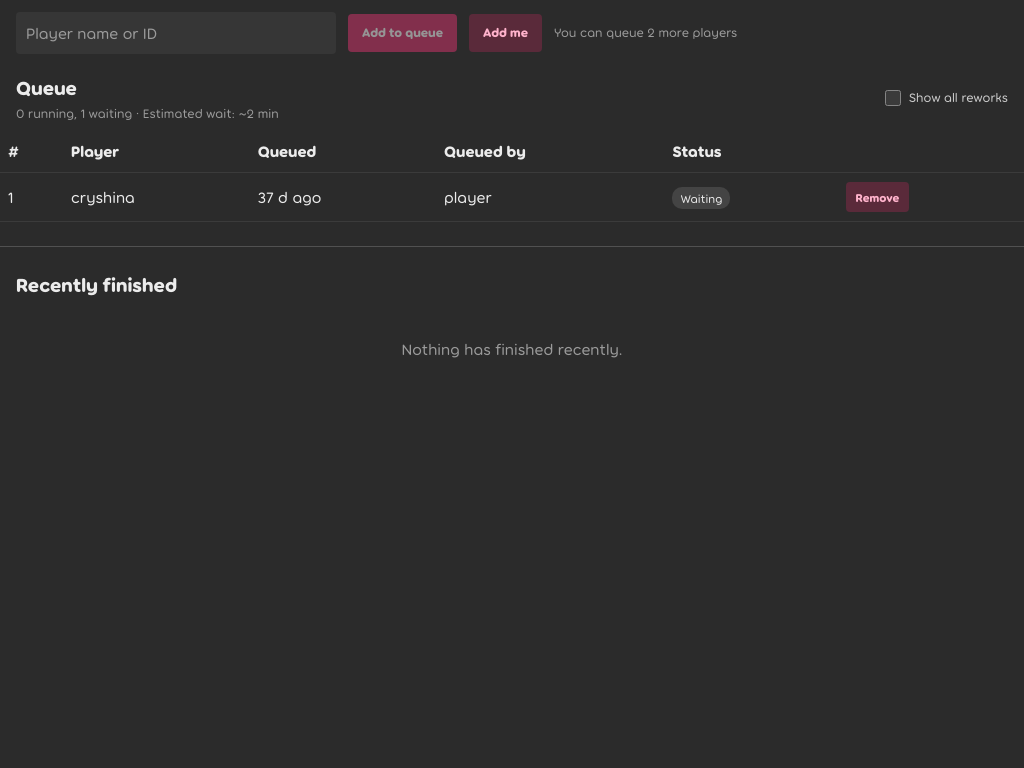
Test: QueueTab › removing entries › removes the entry and reloads
Click the button with aria-label "Remove cryshina".
click(877, 196)  # box [846, 182, 909, 212]
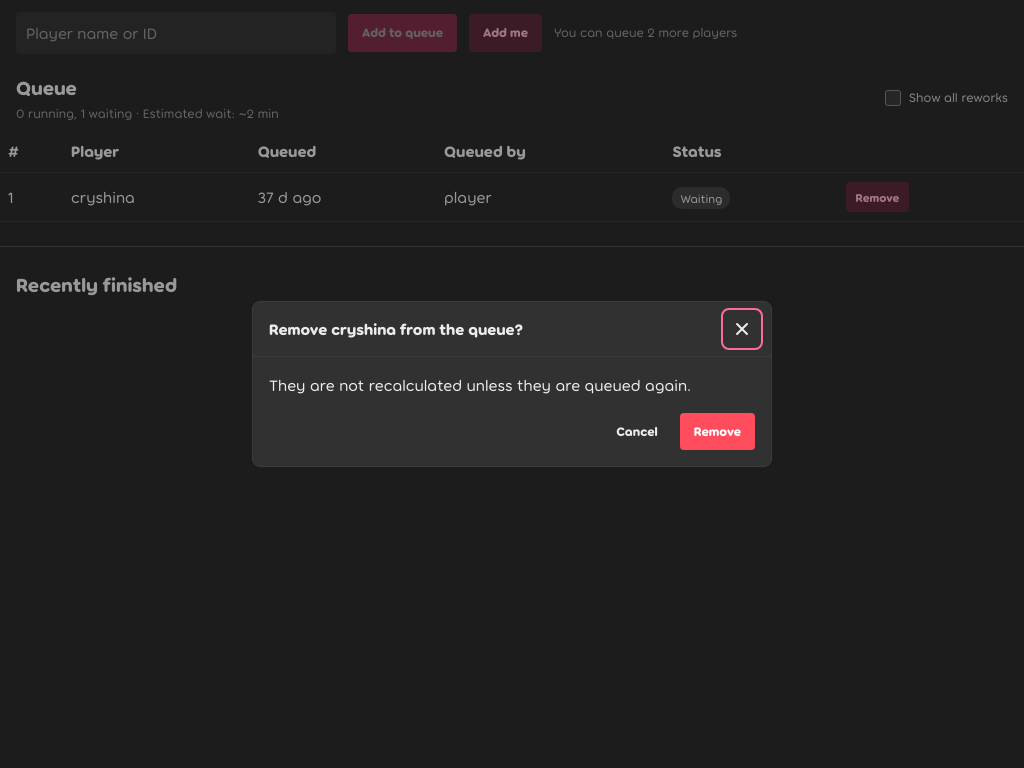
Click the button "Remove".
click(717, 432)  # box [680, 413, 755, 450]
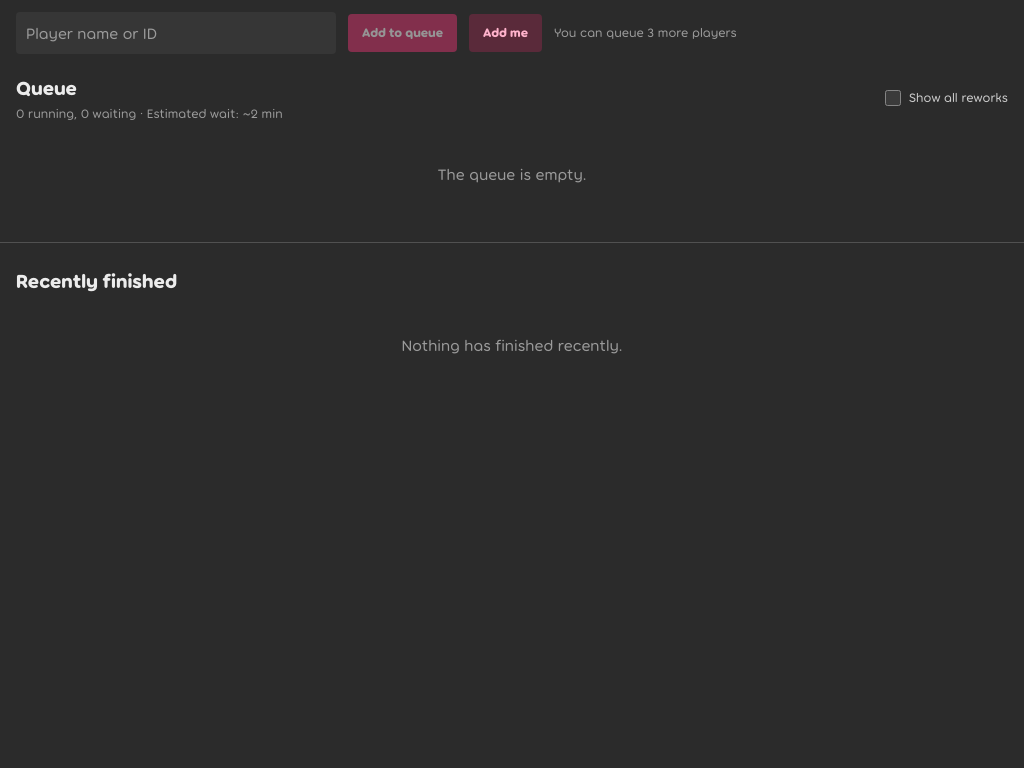
Expected: the text "cryshina" is gone
Expected: the text "You can queue 3 more players" is shown, [554, 23, 737, 43]
